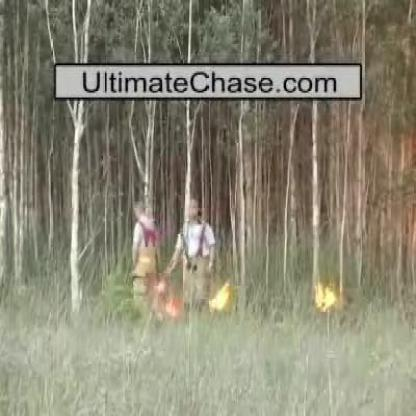foggia-v2-map80-epoch100 - v1 4323: (314, 280, 336, 312), (209, 283, 229, 310)
